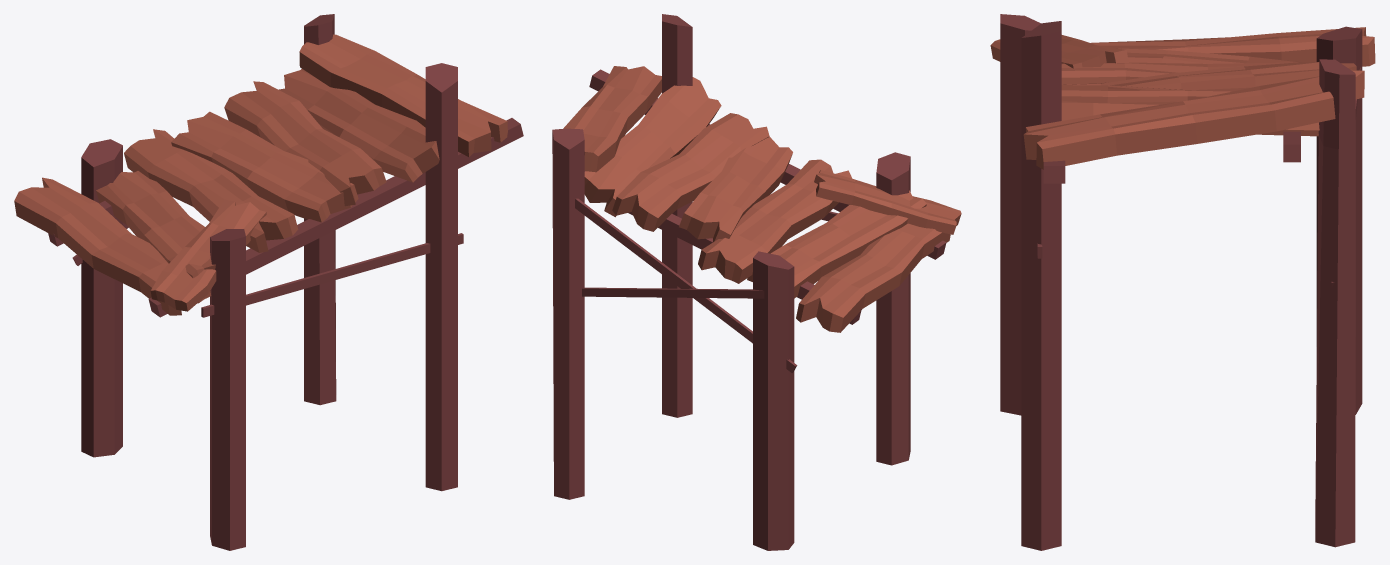
The model's file is env_broken_pier_ramped.fbx.
3 renders of one model, left to right at view 1: azimuth 30°, elevation 25°; view 2: azimuth 150°, elevation 25°; view 3: azimuth 270°, elevation 25°, orthographic. The views are drawn at different scales.
Parts seen in each view (by area): view 1: env_broken_pier_ramped; view 2: env_broken_pier_ramped; view 3: env_broken_pier_ramped.
Part boxes in pixels (<box>): env_broken_pier_ramped: <box>14,14,523,550</box>; env_broken_pier_ramped: <box>552,14,961,550</box>; env_broken_pier_ramped: <box>990,14,1375,550</box>.
Bounding box in the file's own units: 616 × 886 × 910.
